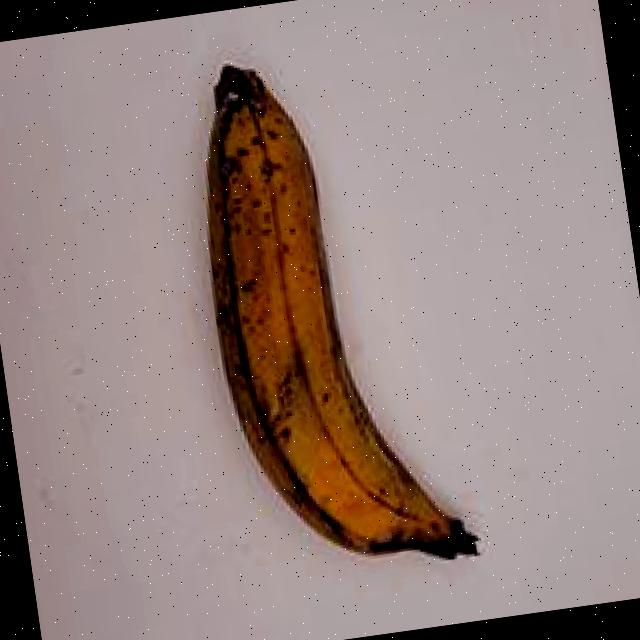Overripe: (116, 14, 517, 616)
